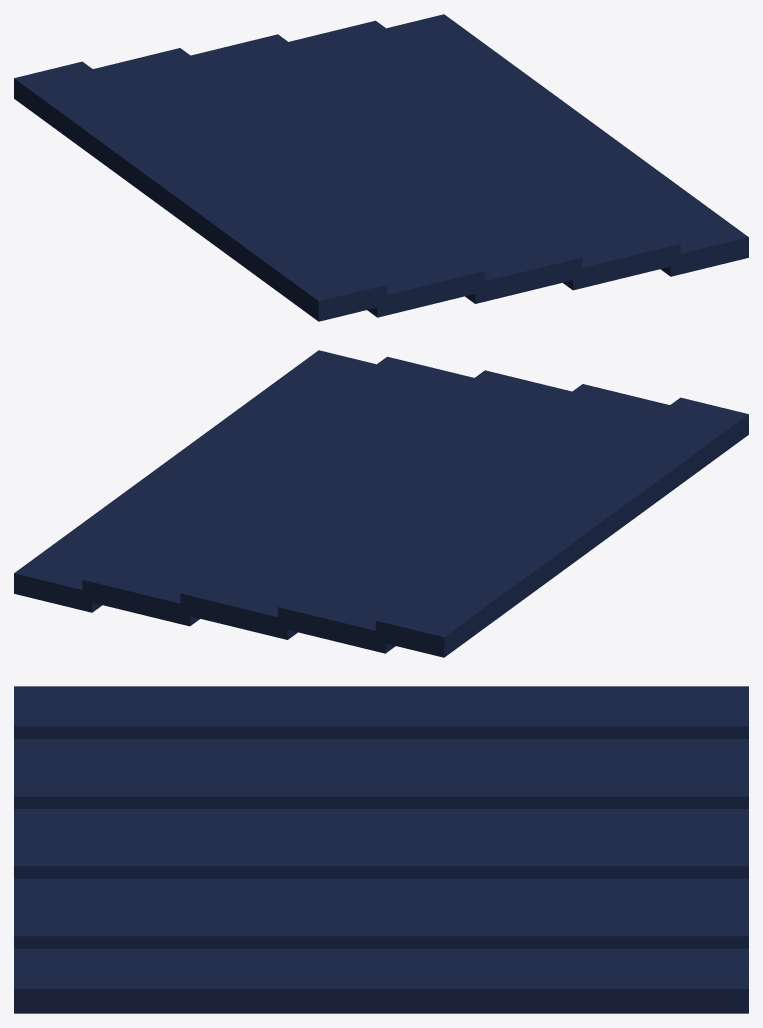
Rendered from police_car_bonnet.glb.
The picture shows the model from 3 angles, top to bottom: view 1: azimuth 30°, elevation 25°; view 2: azimuth 150°, elevation 25°; view 3: azimuth 270°, elevation 25°; orthographic projection. The views are drawn at different scales.
Parts seen in each view (by area): view 1: body:compound; view 2: body:compound; view 3: body:compound.
Part boxes in pixels (<box>): body:compound: <box>14,14,748,321</box>; body:compound: <box>14,350,748,657</box>; body:compound: <box>14,686,748,1013</box>.
Size of the model in its own units: 1.38 by 0.1875 by 1.69.
